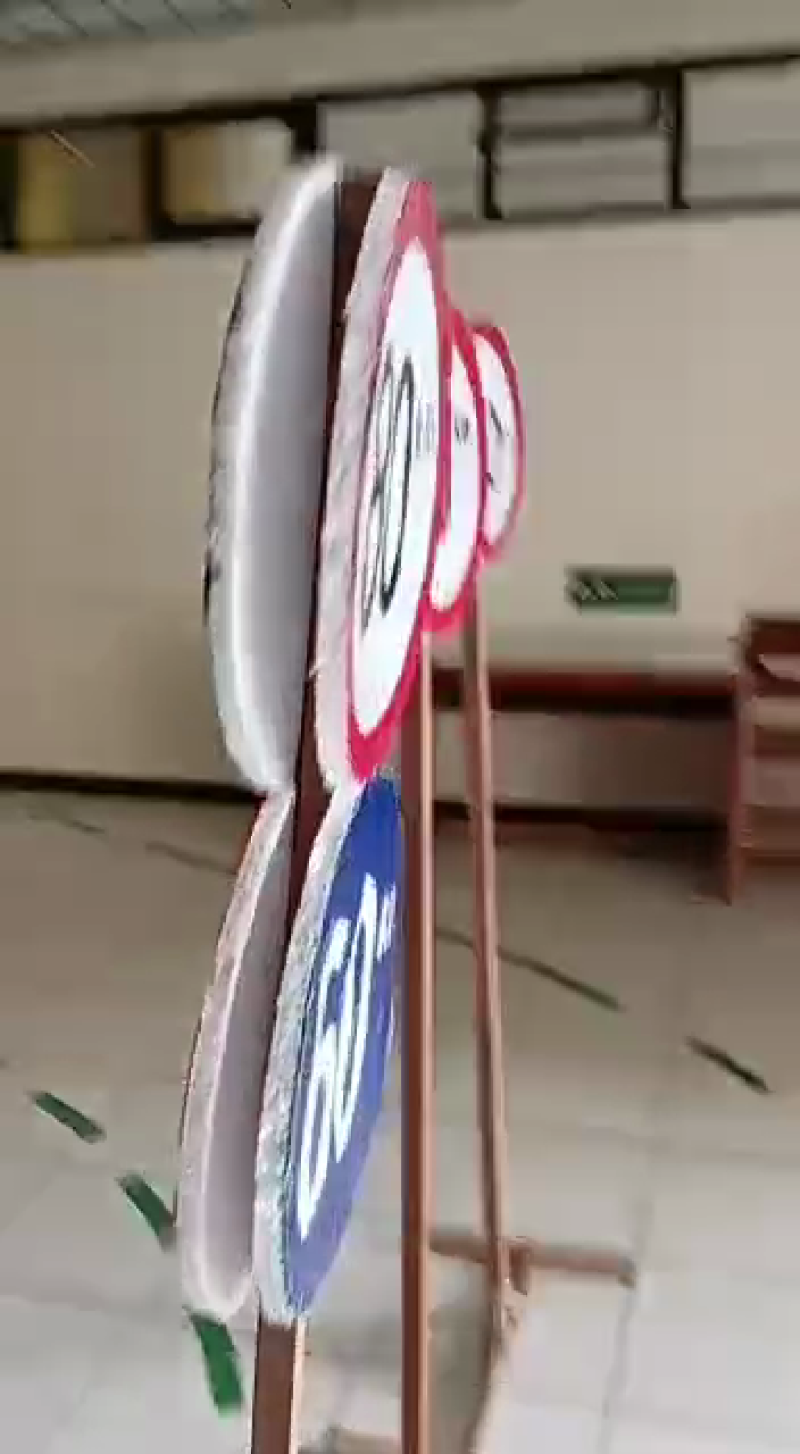batas maksimal 80kmperjam minimal 60kmperjam: (250, 160, 462, 1334)
